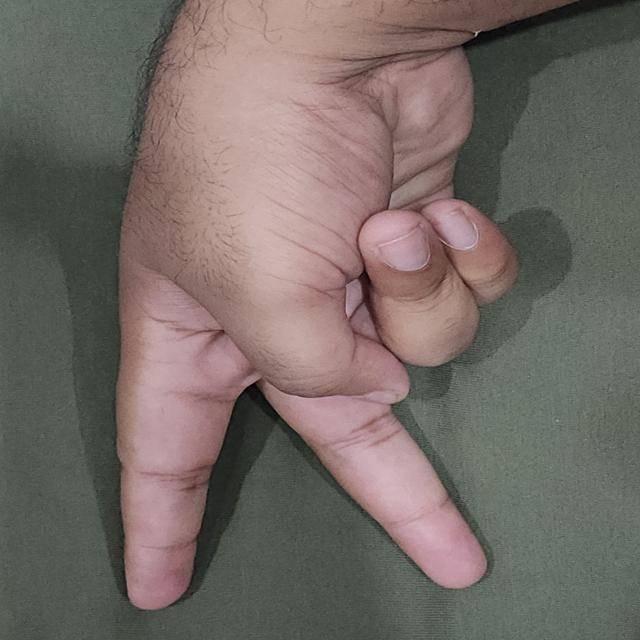ا: (35, 1, 597, 615)
